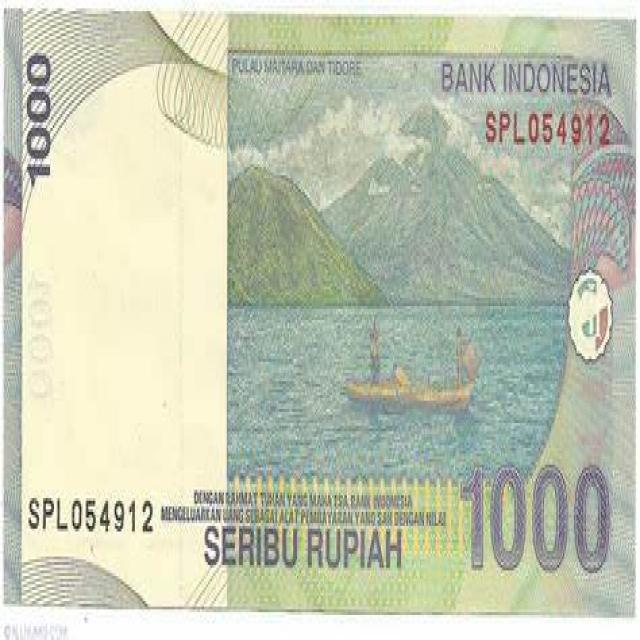seribu rupiah: (3, 5, 636, 622)
